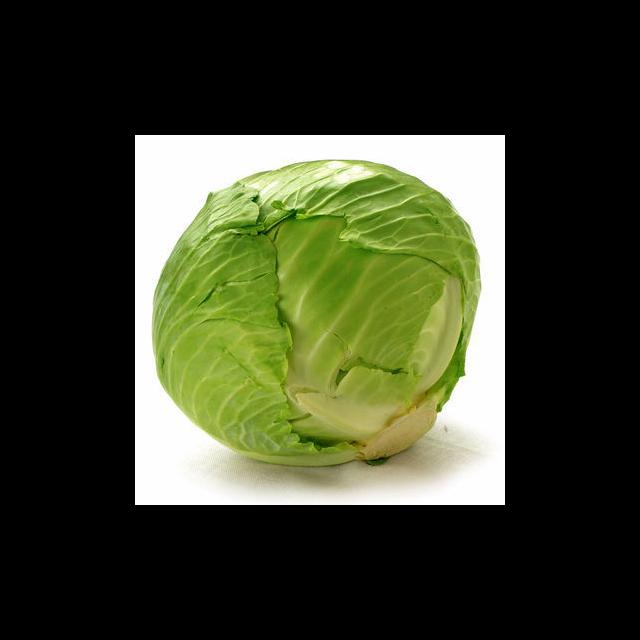cabbage: (150, 158, 483, 472)
